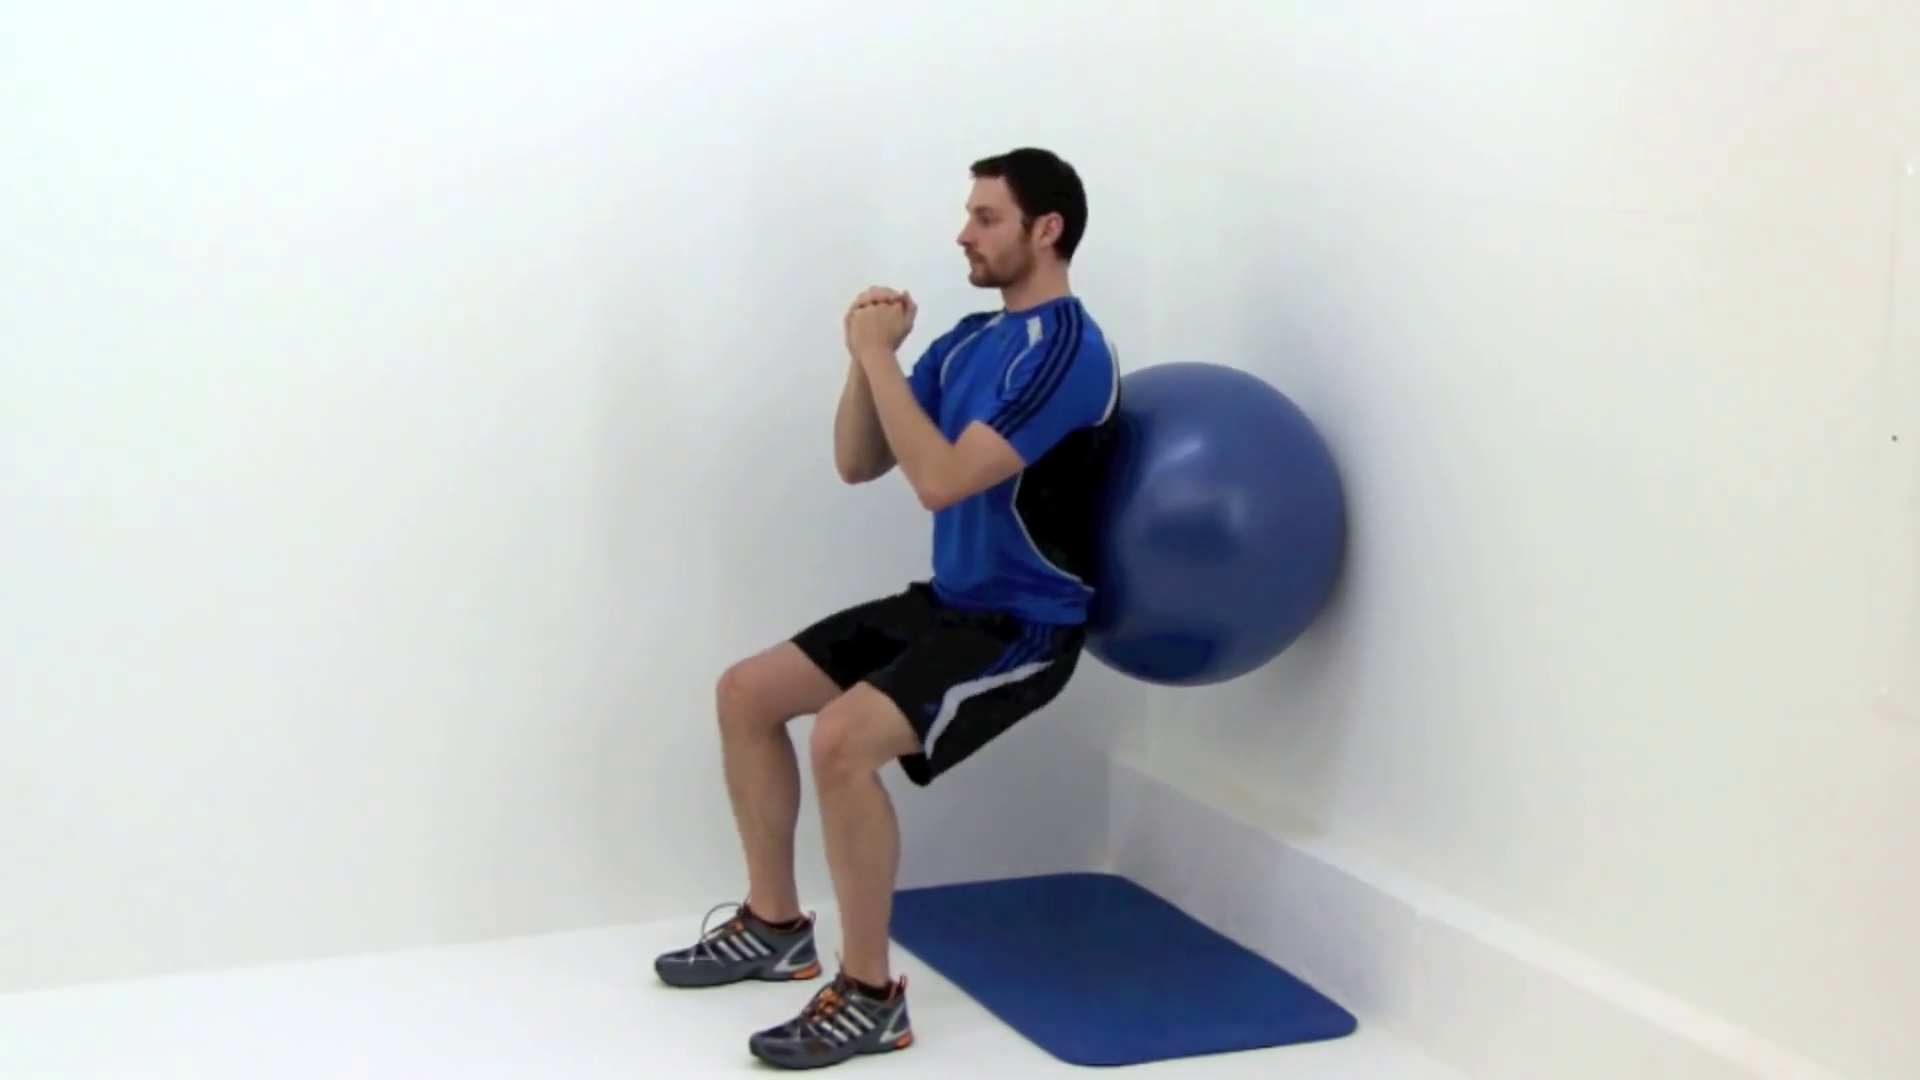yogaball: (1046, 345, 1367, 695)
